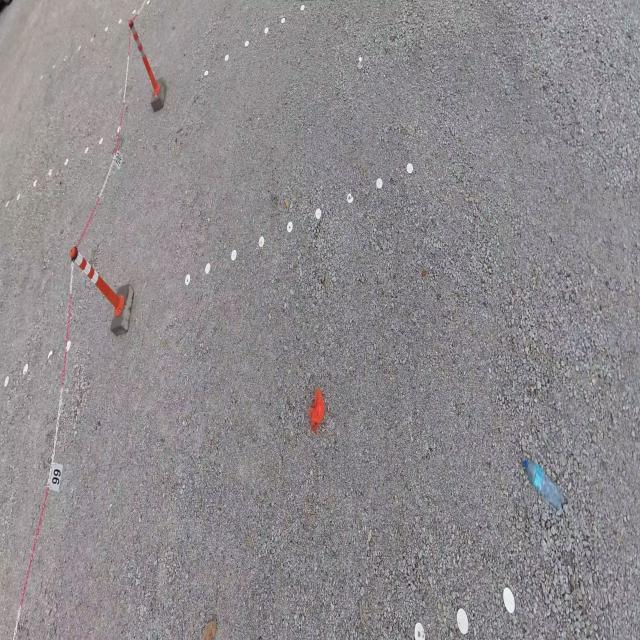rubbish: (523, 460, 562, 511), (307, 386, 325, 431), (202, 615, 216, 639), (356, 57, 363, 68)
